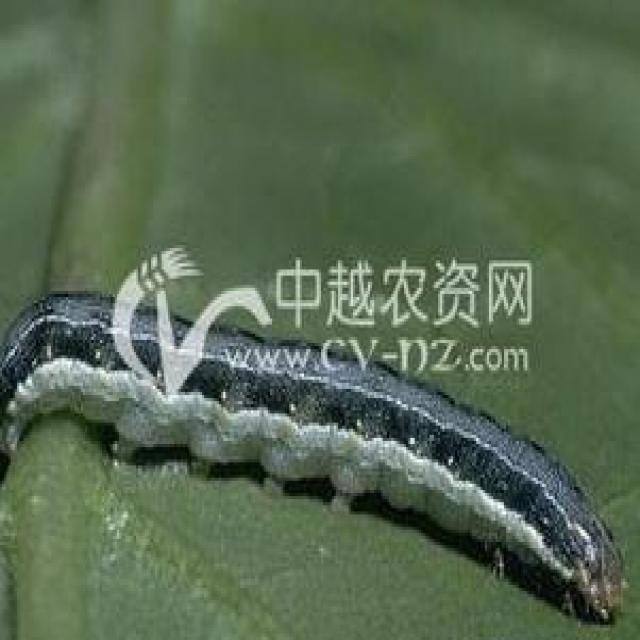BeetArmyWorm-Larva-: (4, 285, 632, 623)
